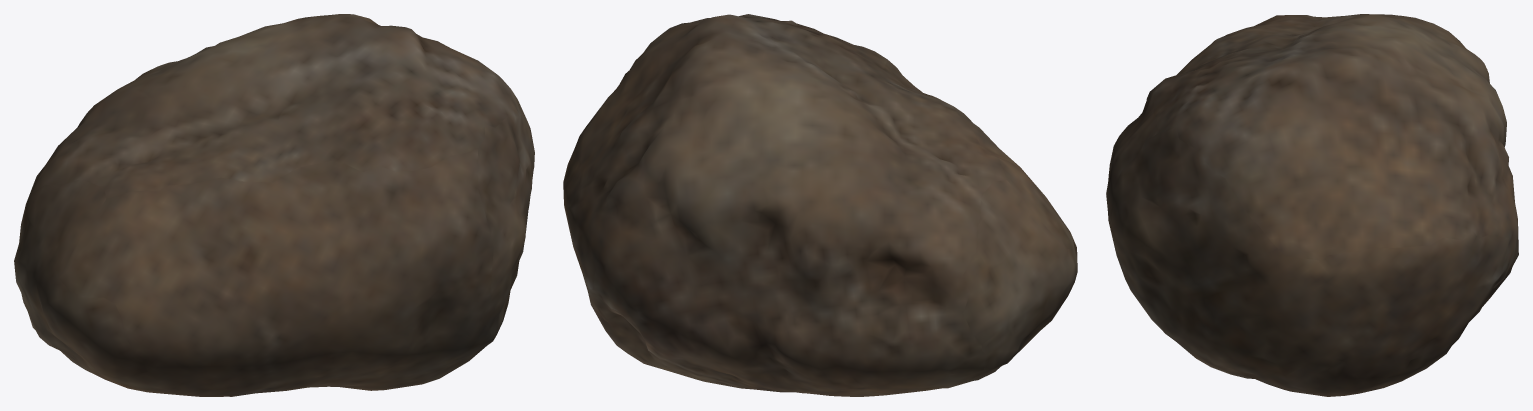
The model's file is Stone_02_A.fbx.
The picture shows the model from 3 angles, left to right: view 1: azimuth 30°, elevation 25°; view 2: azimuth 150°, elevation 25°; view 3: azimuth 270°, elevation 25°; orthographic projection. The views are drawn at different scales.
Parts seen in each view (by area): view 1: Stone_02; view 2: Stone_02; view 3: Stone_02.
Boxes of the visible parts, x1,y1,x2,y2 form: Stone_02: (14,14,534,396); Stone_02: (563,14,1077,396); Stone_02: (1106,14,1518,396).
Size of what is drawn, in the model's own units: 228 by 153 by 177.
